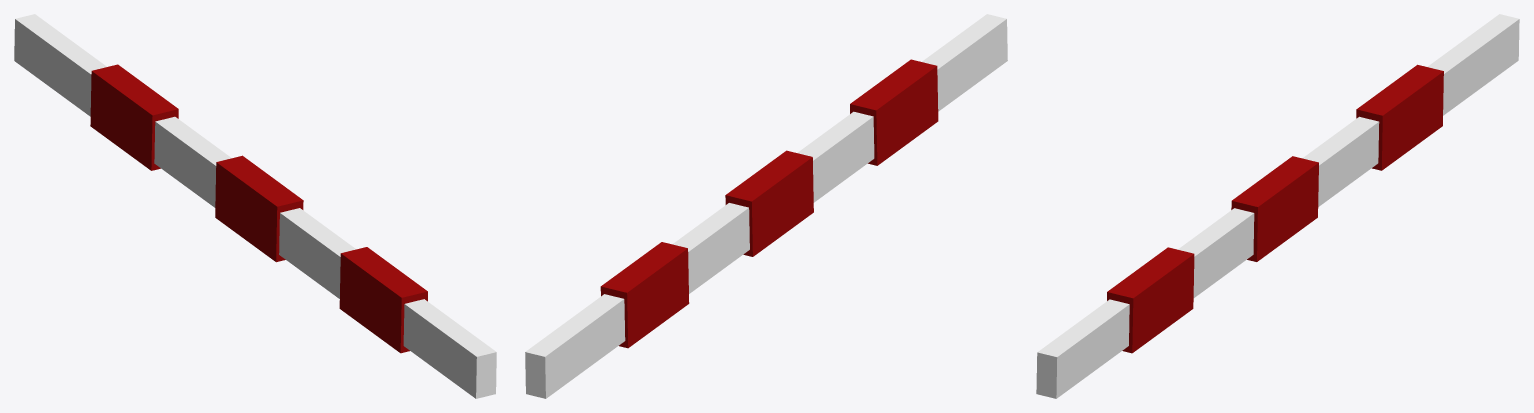
File: base_barrier1.fbx
3 renders of one model, left to right at view 1: azimuth 30°, elevation 25°; view 2: azimuth 150°, elevation 25°; view 3: azimuth 330°, elevation 25°, orthographic.
Parts seen in each view (by area): view 1: base_barrier1; view 2: base_barrier1; view 3: base_barrier1.
Boxes of the visible parts, bbox=[...] form: base_barrier1: bbox=[14, 14, 496, 398]; base_barrier1: bbox=[525, 14, 1007, 398]; base_barrier1: bbox=[1036, 14, 1519, 398].
Bounding box in the file's own units: 17.19 × 33 × 500.
